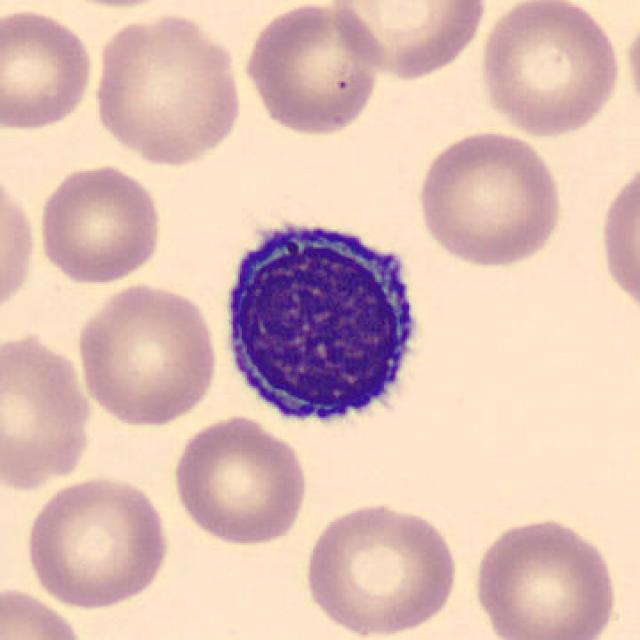Lymphocyte: (210, 203, 434, 441)
RBC: (87, 9, 245, 167), (299, 497, 462, 640), (73, 278, 222, 428), (413, 127, 567, 270), (474, 0, 625, 139), (21, 473, 172, 610), (240, 2, 384, 139), (169, 412, 311, 548), (470, 513, 622, 640), (34, 160, 167, 288), (0, 326, 96, 496), (327, 0, 491, 83), (0, 5, 96, 134), (596, 152, 638, 324), (0, 164, 39, 324), (0, 583, 89, 640), (624, 6, 640, 132), (35, 0, 193, 12)
